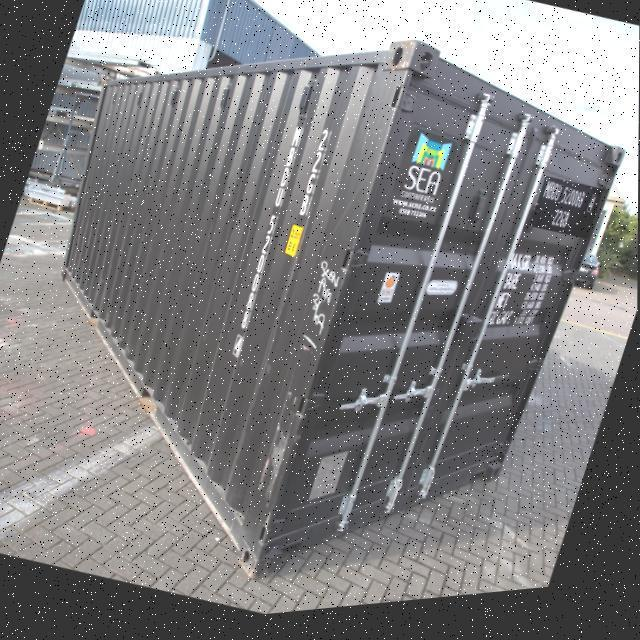container_number_h: (530, 183, 604, 256)
